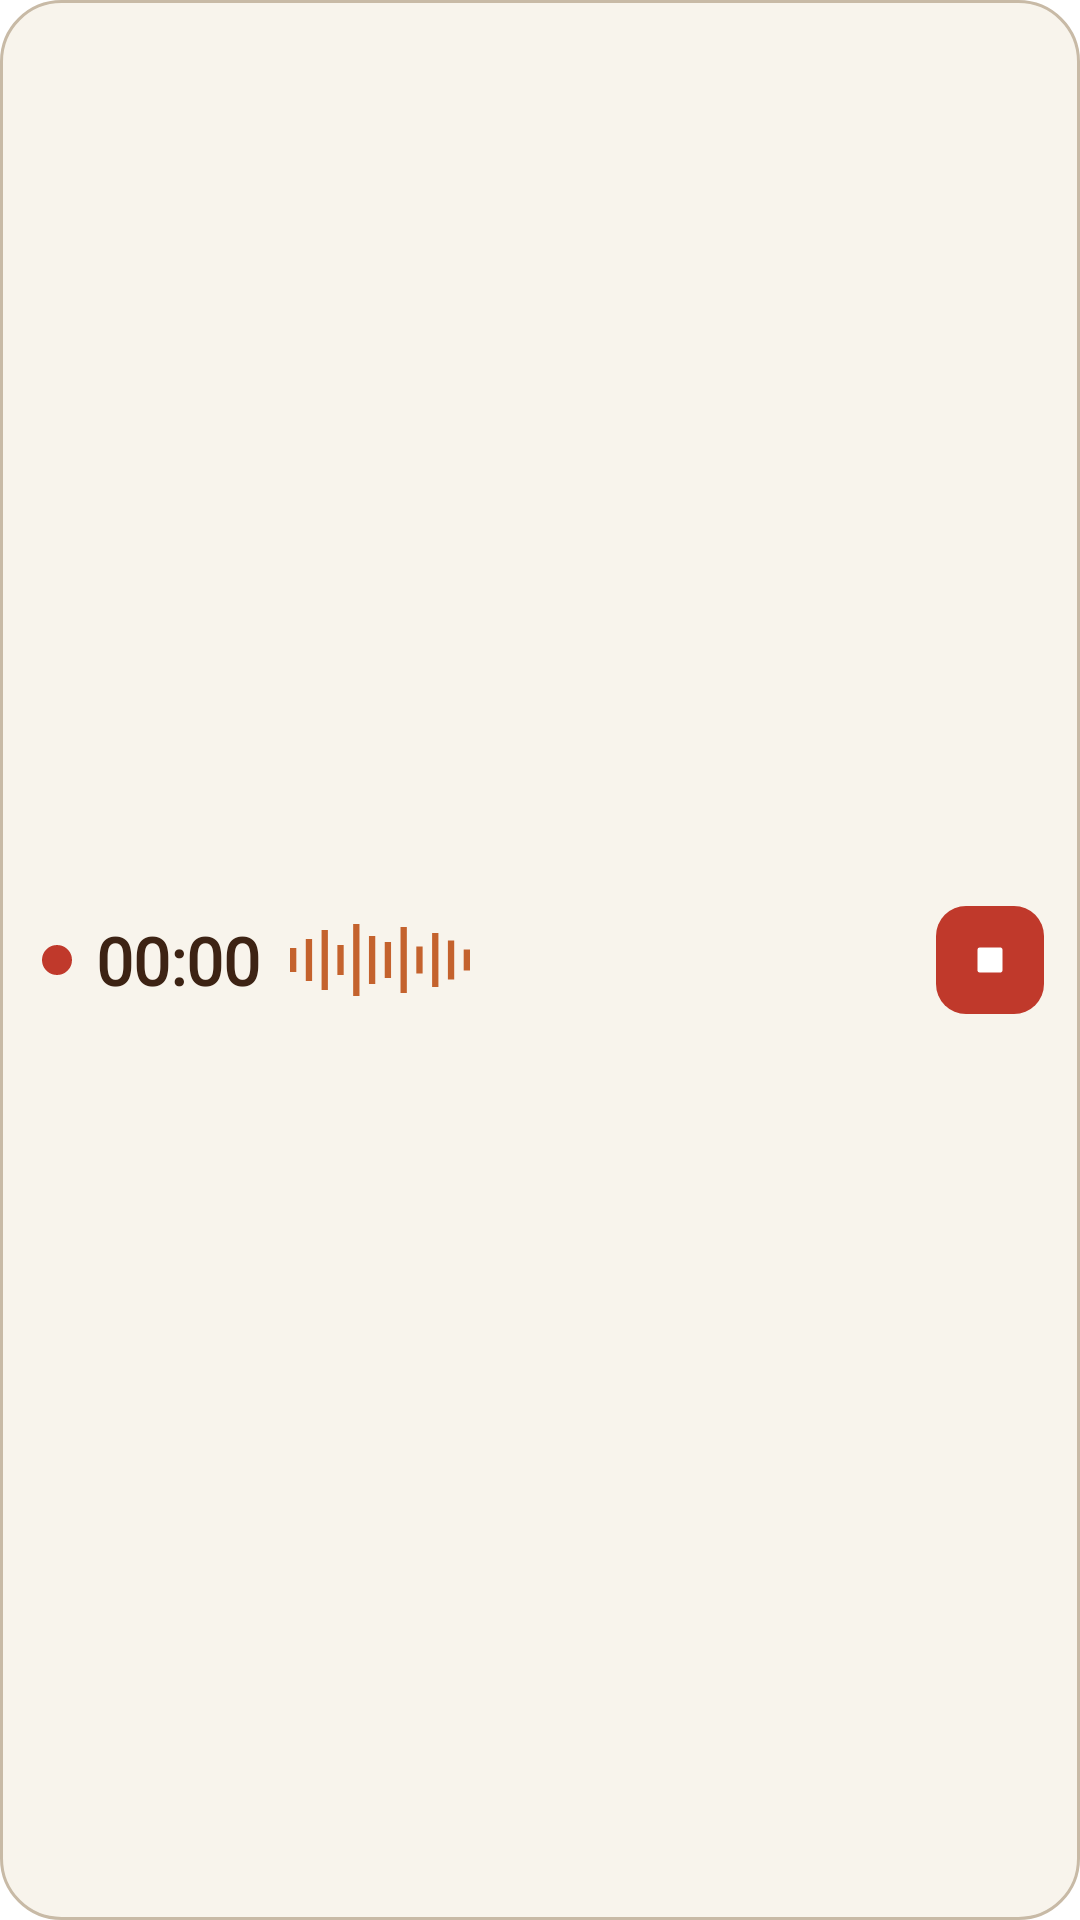

Locate icon controls on the screen. Image size 1080×1920, boxes as [left=x1, top=y1, right=x2, bottom=y2].
Recording: [left=42, top=945, right=72, bottom=975]
Stop: [left=936, top=906, right=1044, bottom=1014]
widget wave: [left=290, top=924, right=470, bottom=996]
